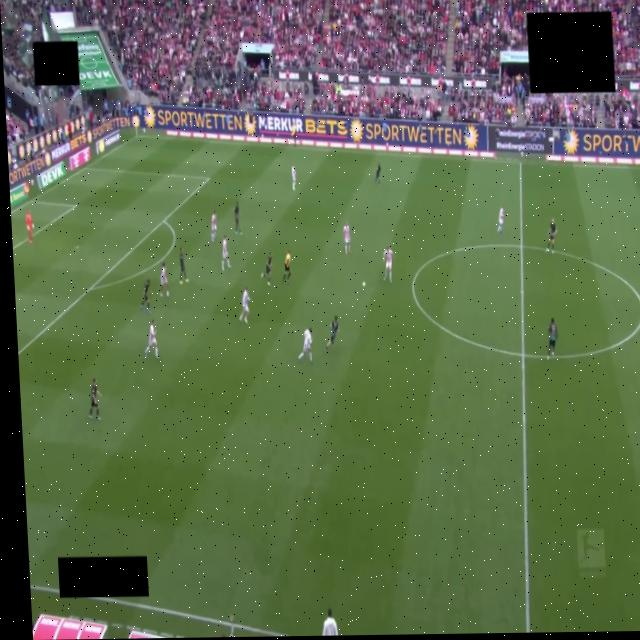ball: (362, 282, 365, 287)
player: (144, 320, 159, 358), (89, 378, 101, 420), (299, 328, 312, 363), (325, 316, 338, 349), (548, 319, 558, 359), (240, 287, 250, 324), (261, 252, 272, 285), (383, 247, 393, 281), (546, 219, 556, 253), (179, 247, 188, 284), (25, 210, 34, 244), (141, 279, 150, 313), (222, 236, 230, 270), (160, 263, 168, 296), (210, 211, 218, 243), (234, 203, 241, 236), (343, 223, 350, 254), (498, 208, 504, 234), (375, 164, 381, 186), (292, 167, 296, 190)
referee: (283, 251, 291, 283)
